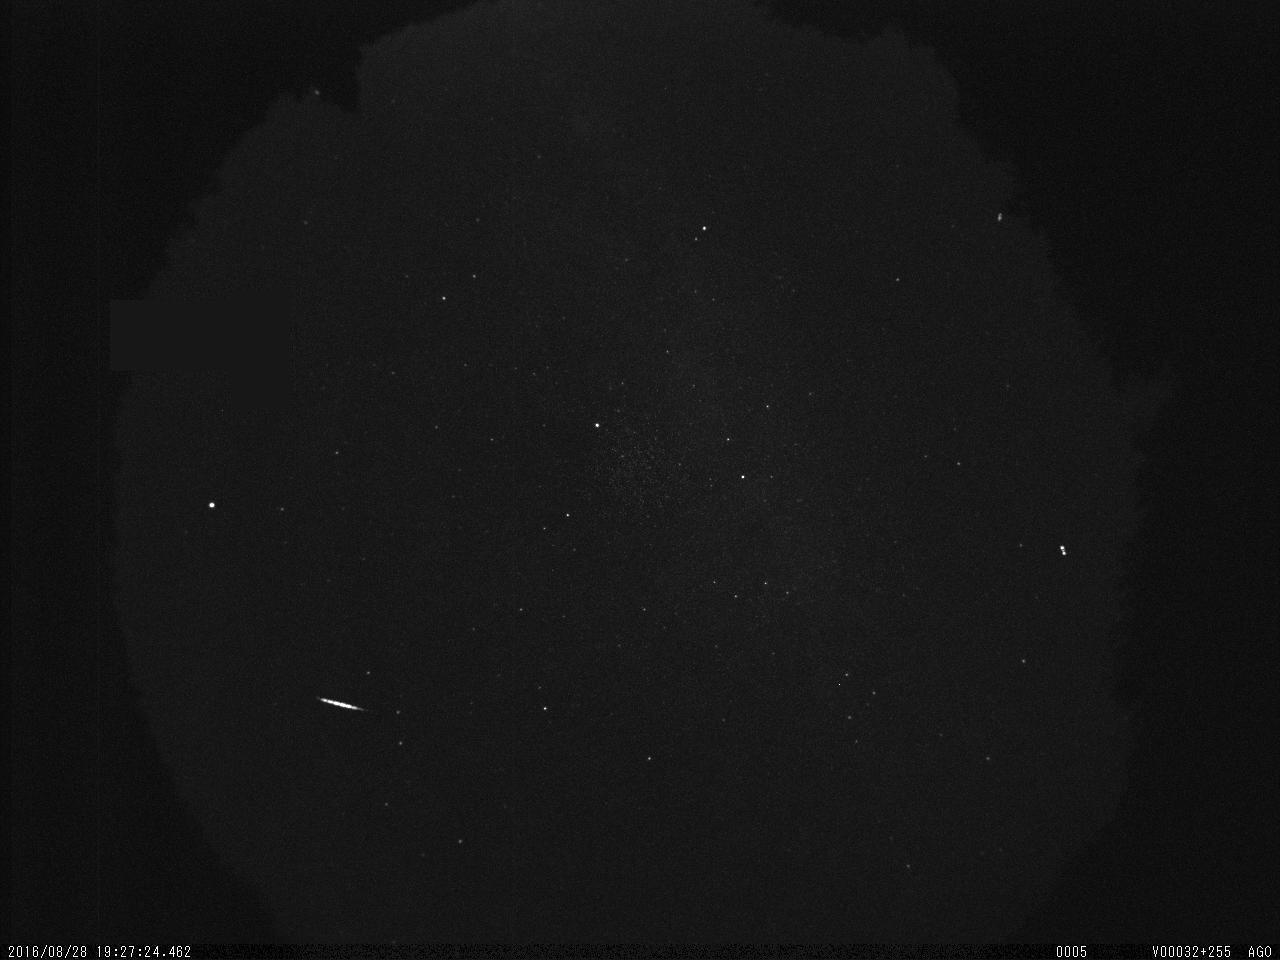Meteor: (319, 695, 366, 711)
